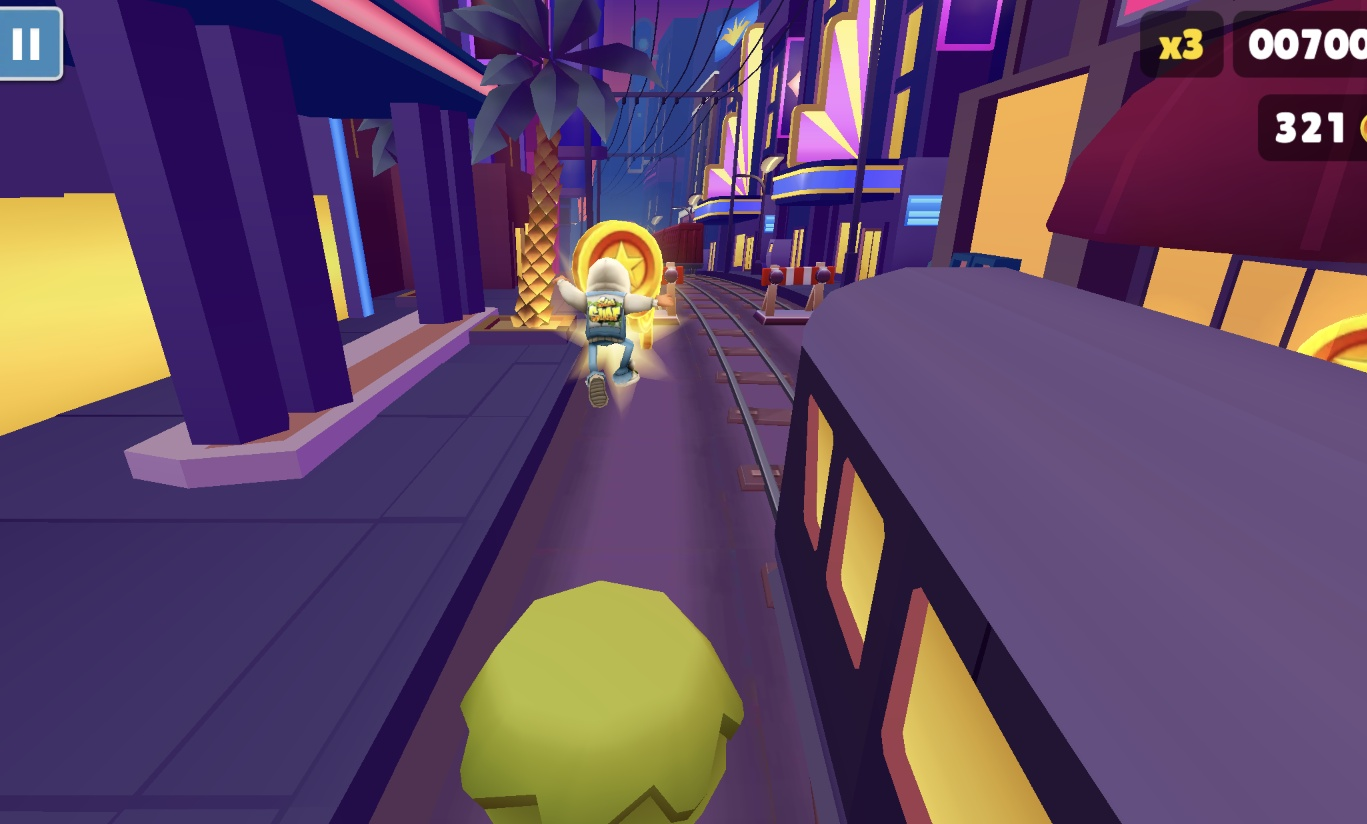bush: (460, 580, 745, 824)
ground_barrier: (758, 262, 835, 328), (655, 262, 685, 318)
train: (789, 264, 1367, 824), (654, 225, 706, 276)
